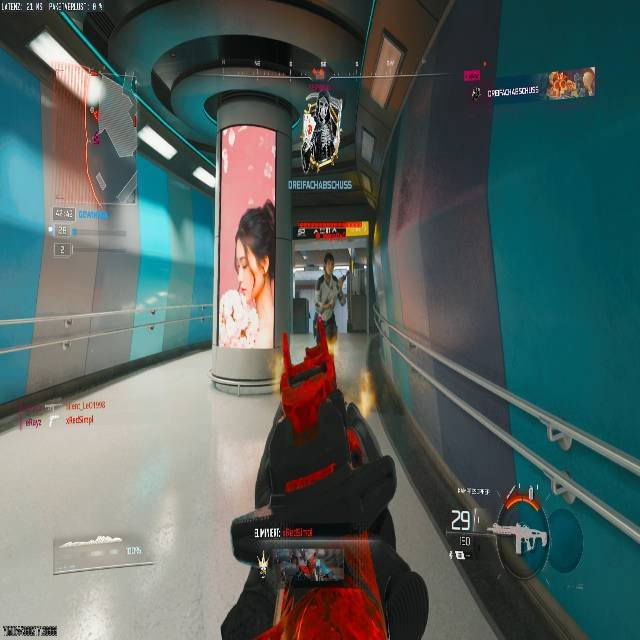player: (216, 332, 436, 638), (315, 252, 346, 350)
